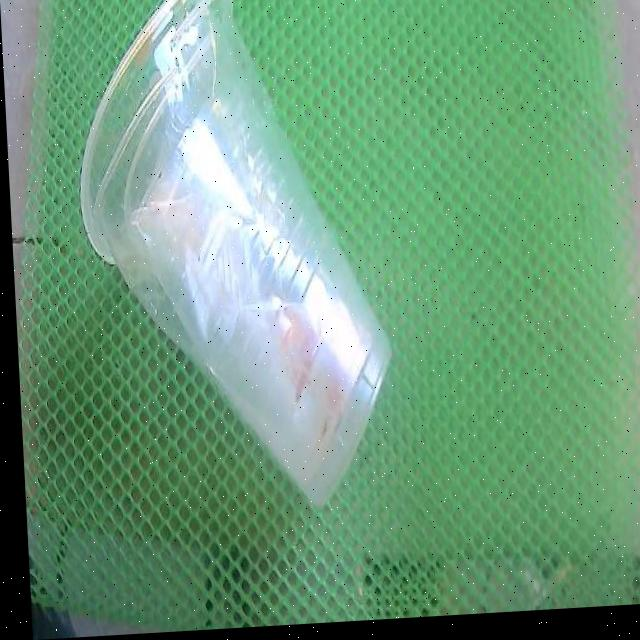cup: (80, 0, 386, 507)
